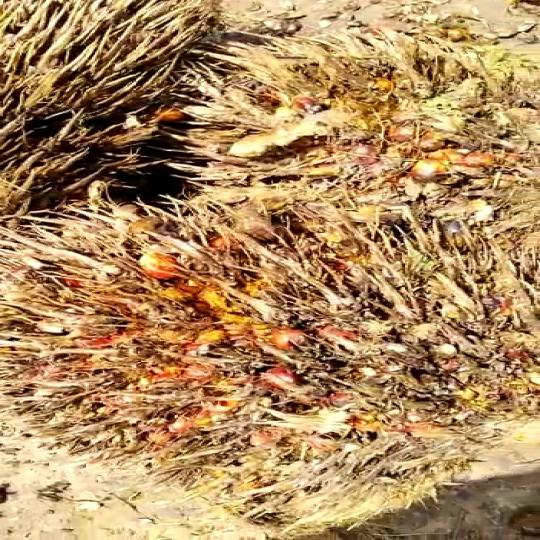terlalu masak: (0, 195, 540, 470), (172, 28, 540, 218)
